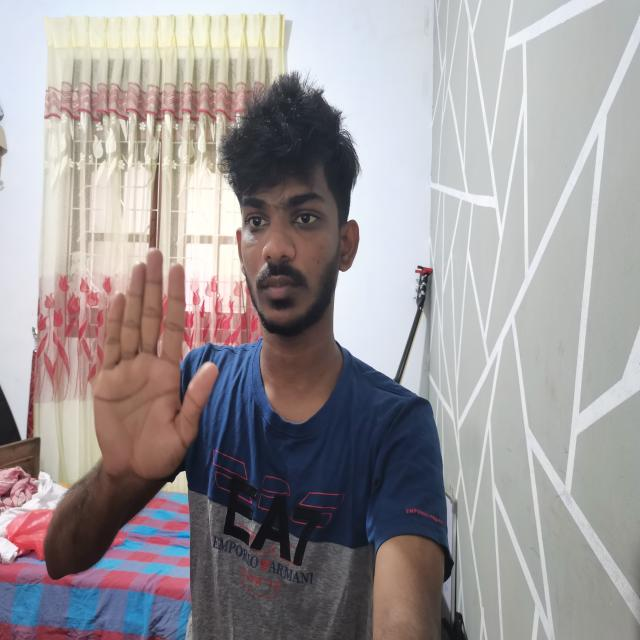Hello: (89, 252, 224, 493)
